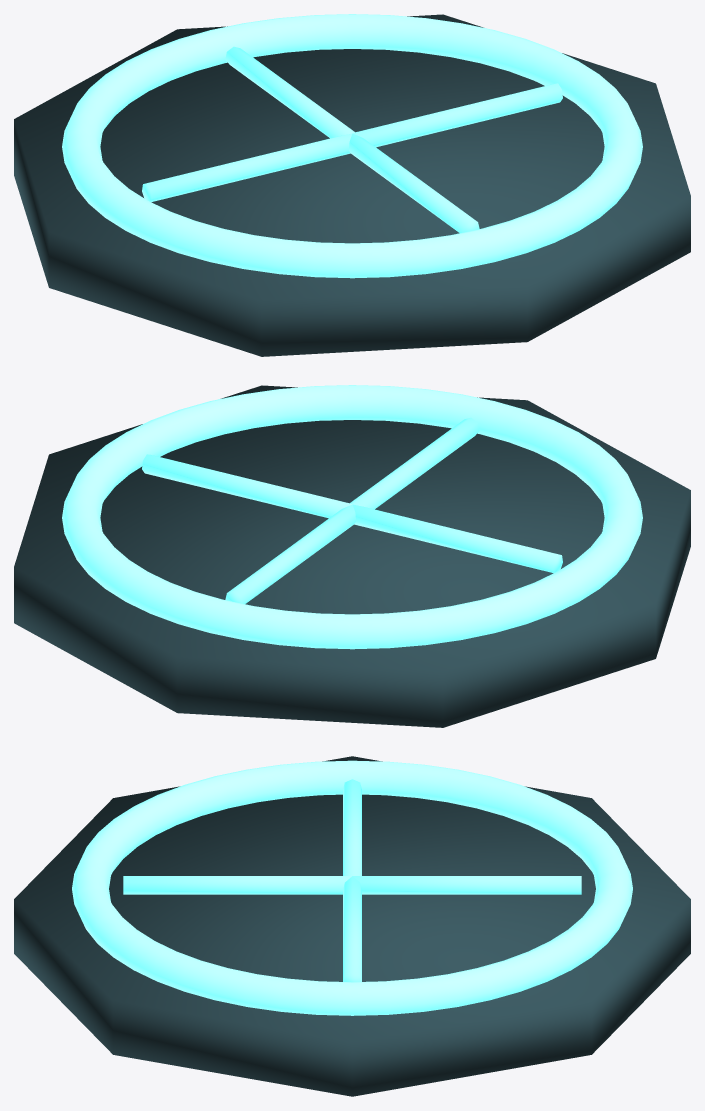
Rendered from start.glb.
3 views of the same model, one above another, from view 1: azimuth 30°, elevation 25°; view 2: azimuth 150°, elevation 25°; view 3: azimuth 270°, elevation 25° (orthographic). The views are drawn at different scales.
Visible parts, largest first — view 1: RF_start-foot, RF_start-ring, RF_start-spoke.002, RF_start-spoke, RF_start-spoke.003, RF_start-spoke.001; view 2: RF_start-foot, RF_start-ring, RF_start-spoke.002, RF_start-spoke, RF_start-spoke.001, RF_start-spoke.003; view 3: RF_start-foot, RF_start-ring, RF_start-spoke.001, RF_start-spoke.003, RF_start-spoke, RF_start-spoke.002.
Part boxes in pixels (x1,y1,x2,y2): RF_start-foot: [14, 14, 690, 356]; RF_start-ring: [62, 14, 642, 278]; RF_start-spoke.002: [142, 133, 351, 202]; RF_start-spoke: [353, 83, 562, 147]; RF_start-spoke.003: [349, 133, 479, 232]; RF_start-spoke.001: [225, 46, 354, 138]; RF_start-foot: [14, 385, 690, 727]; RF_start-ring: [62, 385, 642, 649]; RF_start-spoke.002: [353, 504, 562, 573]; RF_start-spoke: [142, 454, 351, 518]; RF_start-spoke.001: [225, 504, 355, 603]; RF_start-spoke.003: [350, 417, 479, 509]; RF_start-foot: [14, 756, 690, 1096]; RF_start-ring: [72, 760, 632, 1015]; RF_start-spoke.001: [353, 876, 581, 894]; RF_start-spoke.003: [123, 876, 351, 894]; RF_start-spoke: [343, 876, 361, 982]; RF_start-spoke.002: [343, 779, 361, 875].
Bounding box in the file's own units: 0.62 × 0.0825 × 0.62.
